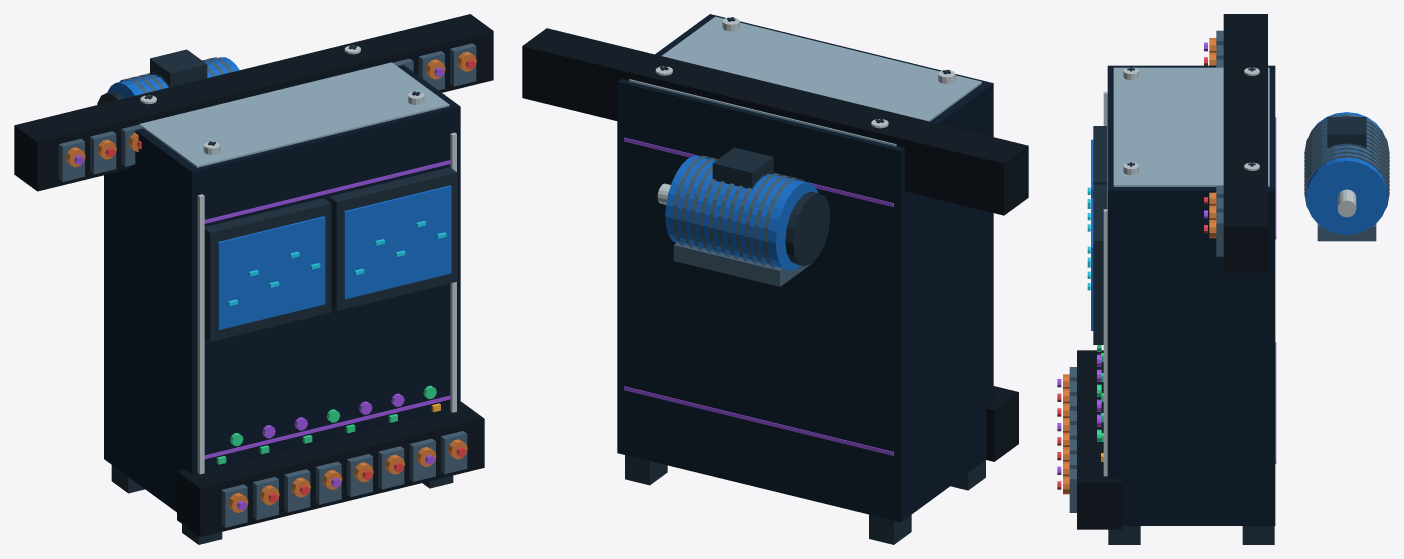
File: 16_L78_CapRFMatchingNetwork.fbx
The picture shows the model from 3 angles, left to right: view 1: azimuth 30°, elevation 25°; view 2: azimuth 150°, elevation 25°; view 3: azimuth 270°, elevation 25°; orthographic projection. The views are drawn at different scales.
Parts seen in each view (by area): view 1: CapRFMatchingNetwork; view 2: CapRFMatchingNetwork; view 3: CapRFMatchingNetwork.
Part boxes in pixels (x1,y1,x2,y2): CapRFMatchingNetwork: [14, 14, 493, 544]; CapRFMatchingNetwork: [522, 14, 1028, 544]; CapRFMatchingNetwork: [1057, 14, 1389, 544].
Bounding box in the file's own units: 204 × 165 × 135.
